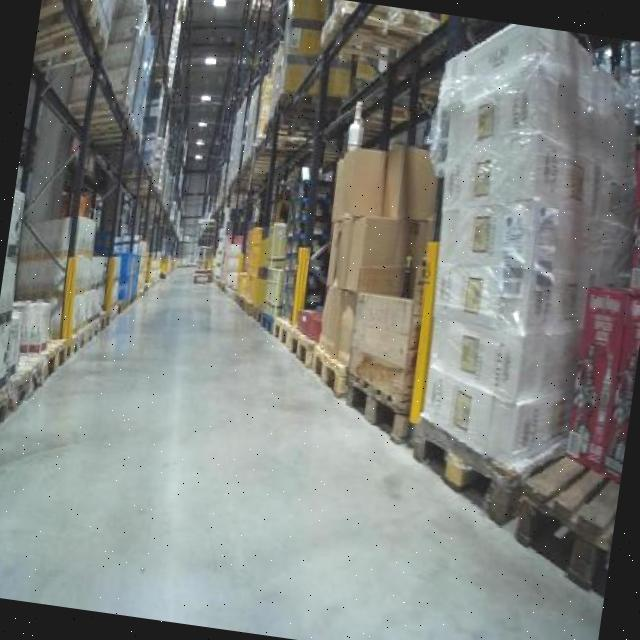pallet: (500, 438, 624, 622), (398, 390, 538, 529), (336, 364, 433, 458), (5, 322, 74, 392), (306, 330, 356, 394), (71, 307, 106, 355), (280, 324, 318, 367), (262, 307, 296, 348)
